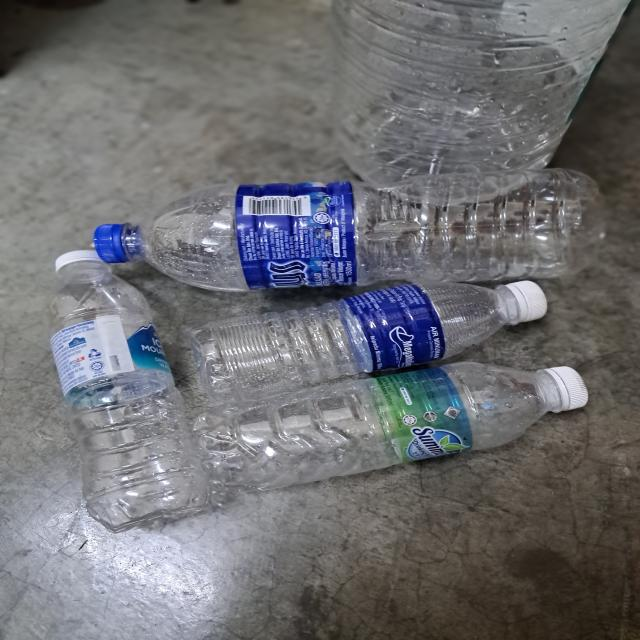plastic bottle: (331, 0, 632, 205), (131, 168, 607, 291), (192, 361, 558, 494), (190, 284, 517, 407), (53, 264, 203, 532)
plastic bottle cap: (533, 366, 589, 414), (501, 280, 548, 326), (54, 250, 114, 277), (95, 223, 128, 265)
